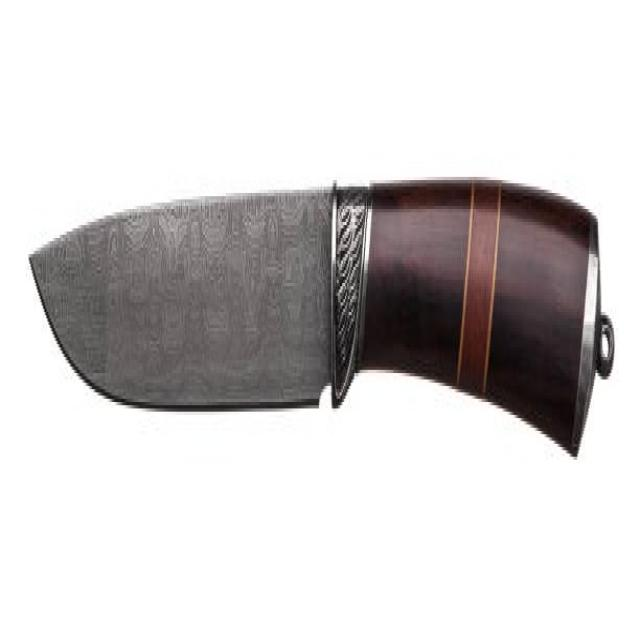knife: (23, 153, 616, 482)
